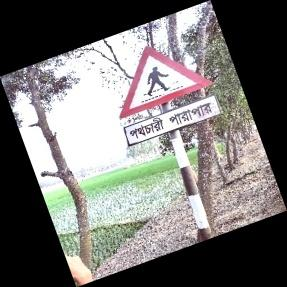Pedestrian-crossing: (118, 45, 220, 151)
